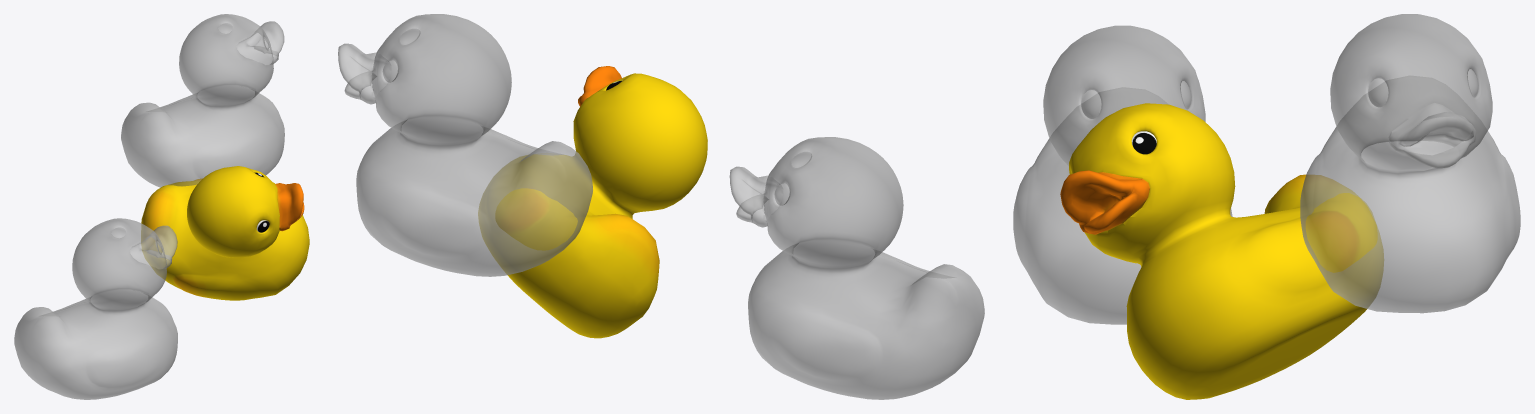
Rendered from effect_lambert_emission_texture.dae.
3 views of the same model, side by side, from view 1: azimuth 30°, elevation 25°; view 2: azimuth 150°, elevation 25°; view 3: azimuth 270°, elevation 25° (orthographic). The views are drawn at different scales.
Visible parts, largest first — view 1: duck3, duck2, duck1; view 2: duck2, duck3, duck1; view 3: duck1, duck2, duck3.
Boxes of the visible parts, <box> form: duck3: <box>14,218,177,399</box>; duck2: <box>121,14,284,187</box>; duck1: <box>141,166,309,300</box>; duck2: <box>338,14,592,276</box>; duck3: <box>729,137,984,399</box>; duck1: <box>478,66,707,338</box>; duck1: <box>1060,103,1383,399</box>; duck2: <box>1300,14,1520,313</box>; duck3: <box>1013,25,1232,324</box>.
Bounding box in the file's own units: 365 × 254 × 265.
Materials: 2 (1 with a texture image).
